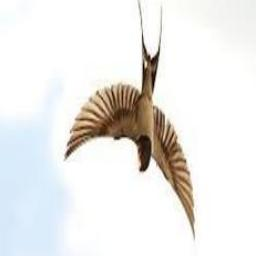Swallow: (65, 0, 196, 241)
